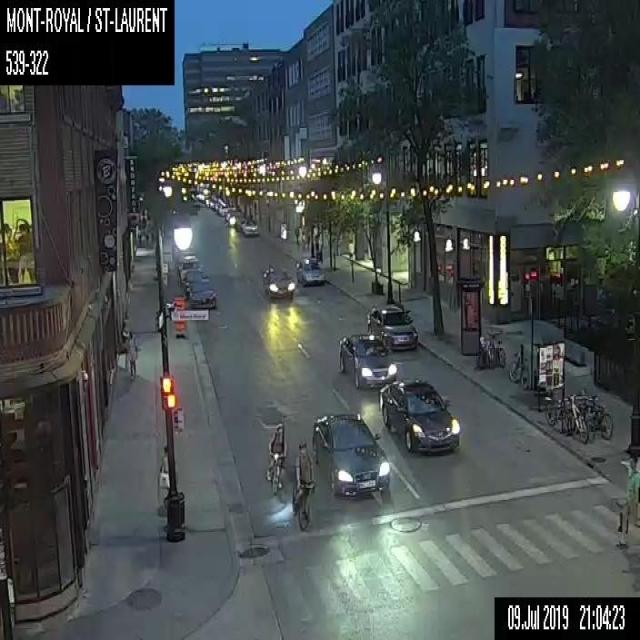construction: (173, 296, 186, 338)
cyclist: (291, 441, 313, 532), (264, 421, 286, 492)
pedestrian: (617, 453, 639, 547), (125, 329, 137, 379)
vehicle: (312, 411, 390, 497), (376, 379, 459, 451), (338, 336, 398, 388), (362, 304, 419, 352), (294, 254, 328, 287), (260, 266, 295, 298), (184, 279, 216, 310), (178, 254, 202, 274), (238, 219, 259, 236), (182, 270, 208, 283)
